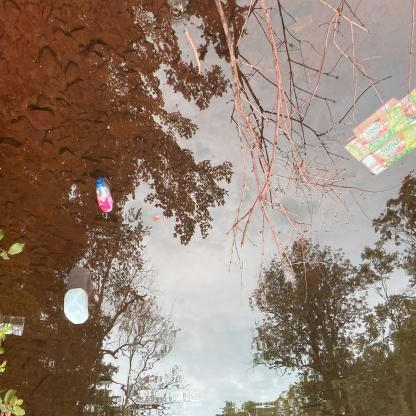Plastic: (61, 285, 93, 329), (92, 175, 118, 217), (0, 316, 29, 338)
